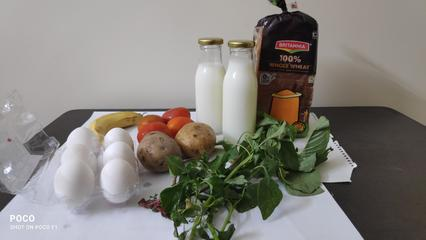banana: (95, 108, 145, 125)
bread: (258, 14, 318, 124)
eggs: (58, 126, 127, 209)
milk: (196, 37, 257, 138)
spinach: (160, 118, 336, 228)
tomato: (131, 130, 222, 169), (137, 107, 192, 134)
